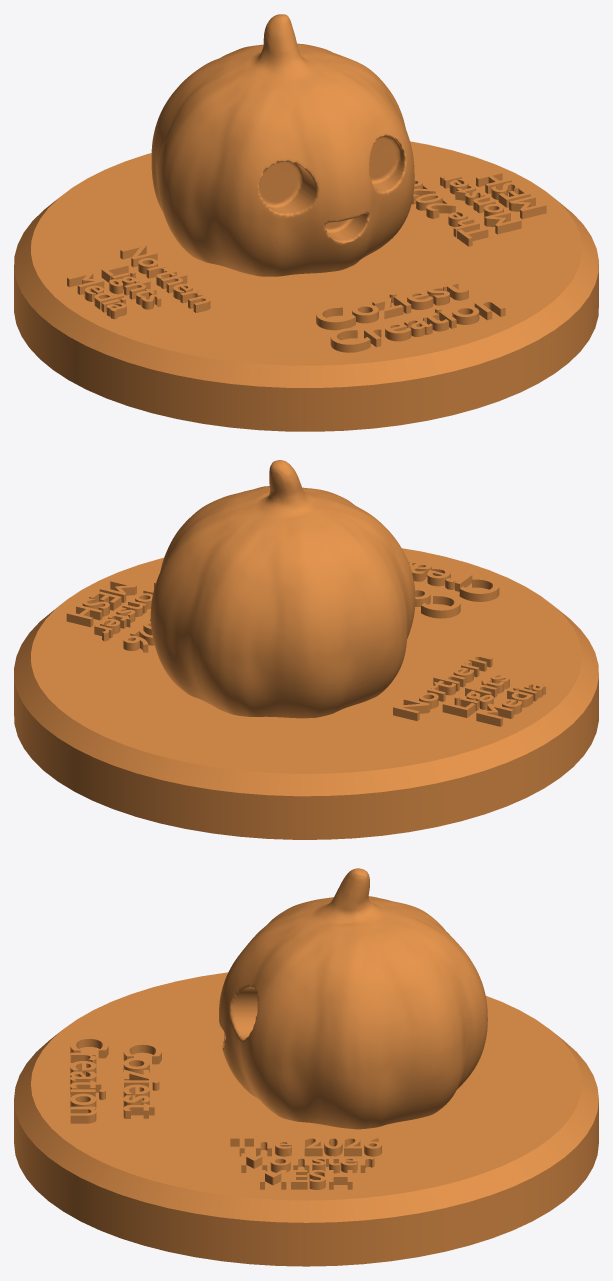
File: coziest-creation-trophy.glb
3 views of the same model, one above another, from view 1: azimuth 30°, elevation 25°; view 2: azimuth 150°, elevation 25°; view 3: azimuth 270°, elevation 25° (orthographic).
Visible parts, largest first — view 1: NLM_MonsterMESH_Trophies_Cozy; view 2: NLM_MonsterMESH_Trophies_Cozy; view 3: NLM_MonsterMESH_Trophies_Cozy.
Part boxes in pixels (x1,y1,x2,y2): NLM_MonsterMESH_Trophies_Cozy: (14,14,598,431); NLM_MonsterMESH_Trophies_Cozy: (14,460,598,839); NLM_MonsterMESH_Trophies_Cozy: (14,868,598,1266).
Bounding box in the file's own units: 0.09 × 0.0465 × 0.09.
